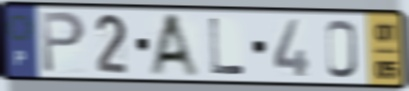0: (324, 18, 359, 80)
2: (94, 12, 129, 76)
4: (271, 17, 311, 79)
A: (147, 11, 204, 80)
L: (207, 16, 247, 76)
P: (39, 10, 88, 76)
